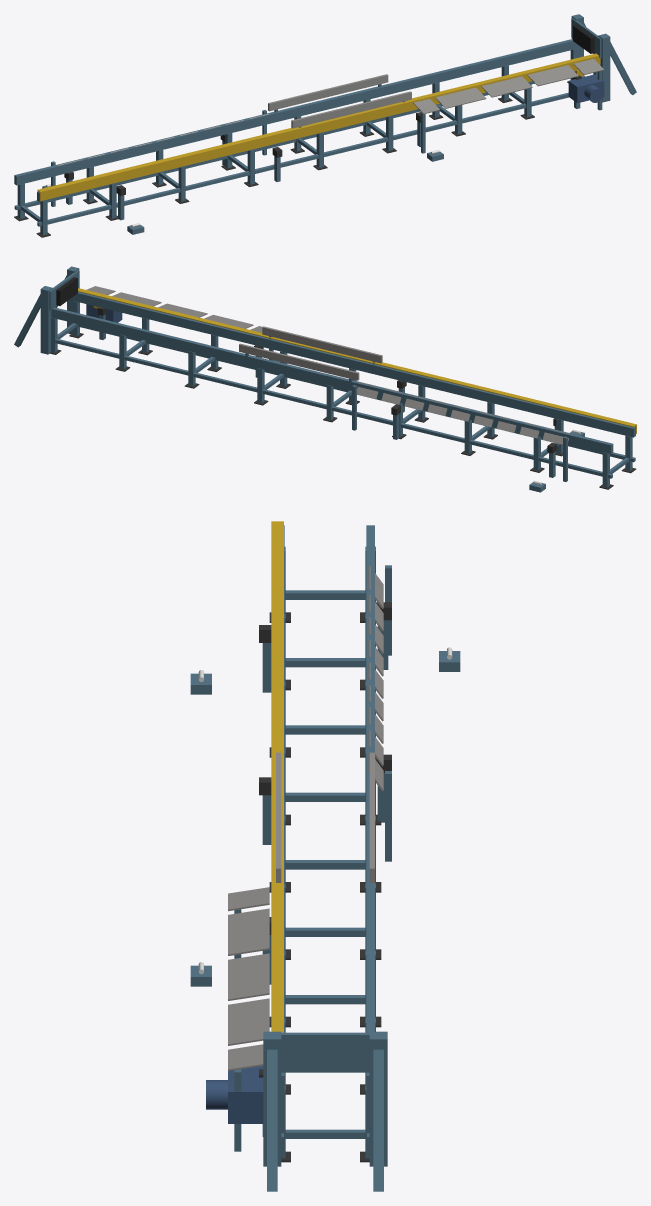
File: headrig_outfeed_frame.glb
3 renders of one model, top to bottom at view 1: azimuth 30°, elevation 25°; view 2: azimuth 150°, elevation 25°; view 3: azimuth 270°, elevation 25°, orthographic. The views are drawn at different scales.
Parts seen in each view (by area): view 1: HO_FrameMesh; view 2: HO_FrameMesh; view 3: HO_FrameMesh.
Part boxes in pixels (x1,y1,x2,y2): HO_FrameMesh: [14, 14, 636, 237]; HO_FrameMesh: [14, 266, 636, 492]; HO_FrameMesh: [190, 521, 460, 1191].
Size of the model in its own units: 15.5 by 1.61 by 3.04.
